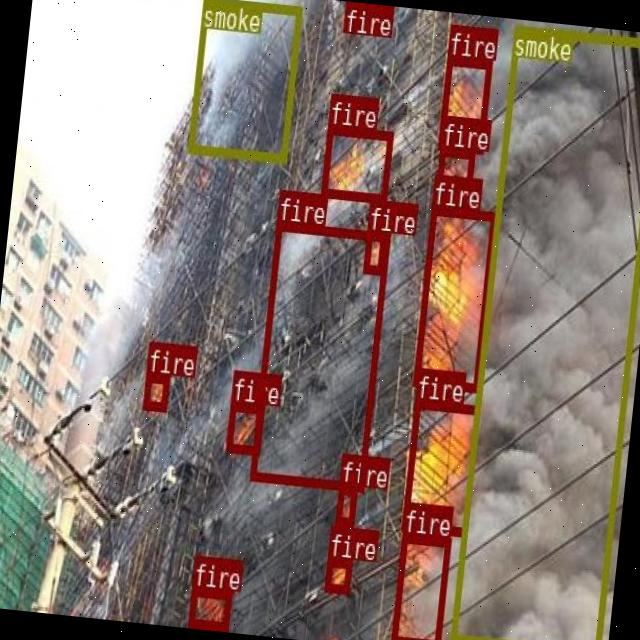fire: (250, 221, 388, 489), (412, 203, 496, 390), (401, 398, 479, 534), (391, 532, 450, 640), (320, 124, 392, 202), (436, 54, 492, 153), (434, 146, 474, 198), (224, 400, 263, 453), (188, 586, 230, 628), (362, 230, 386, 274), (142, 372, 168, 410), (323, 556, 350, 591), (335, 482, 356, 524), (344, 1, 378, 24)
smoke: (449, 23, 640, 640), (187, 0, 302, 160)
